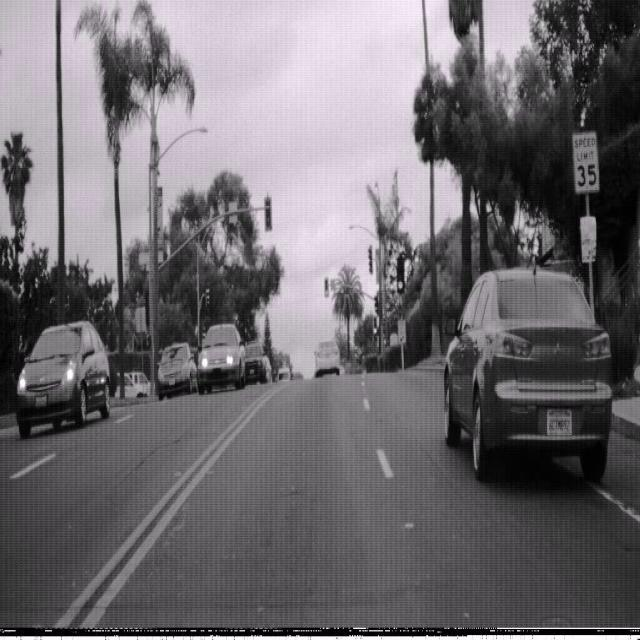speedLimit35: (571, 128, 600, 194)
